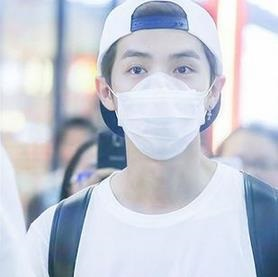face_mask: (114, 37, 203, 161)
